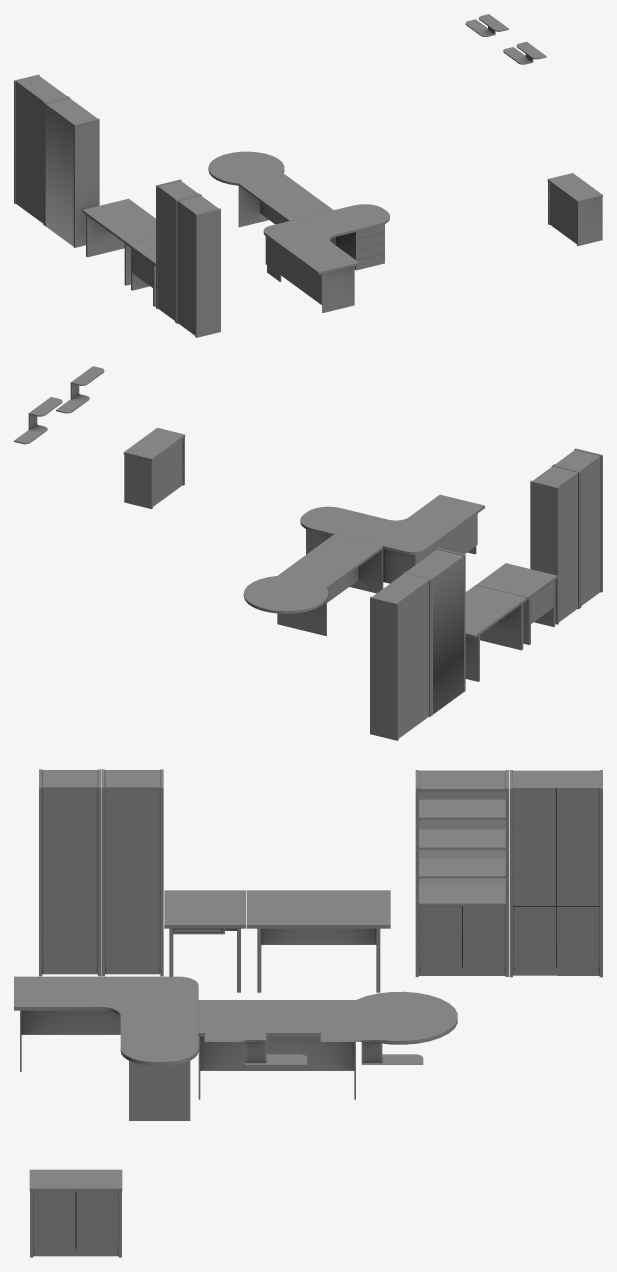
The model's file is mebel.fbx.
3 renders of one model, top to bottom at view 1: azimuth 30°, elevation 25°; view 2: azimuth 150°, elevation 25°; view 3: azimuth 270°, elevation 25°, orthographic. The views are drawn at different scales.
Parts seen in each view (by area): view 1: table, table.021, table.033, table.022, table.002, table.007, table.010; view 2: table, table.021, table.033, table.022, table.002, table.010, table.007; view 3: table.021, table, table.033, table.022, table.002, table.010, table.007.
Part boxes in pixels (bbox=[...]): table: bbox=[208, 151, 389, 312]; table.021: bbox=[14, 74, 99, 247]; table.033: bbox=[156, 179, 220, 337]; table.022: bbox=[82, 198, 155, 306]; table.002: bbox=[547, 173, 602, 245]; table.007: bbox=[503, 41, 546, 64]; table.010: bbox=[465, 14, 508, 36]; table: bbox=[243, 494, 484, 635]; table.021: bbox=[370, 548, 465, 740]; table.033: bbox=[530, 448, 602, 624]; table.022: bbox=[465, 563, 557, 681]; table.002: bbox=[123, 427, 185, 508]; table.010: bbox=[14, 397, 62, 444]; table.007: bbox=[56, 366, 104, 413]; table.021: bbox=[415, 770, 602, 977]; table: bbox=[14, 976, 457, 1120]; table.033: bbox=[39, 769, 163, 976]; table.022: bbox=[164, 890, 390, 992]; table.002: bbox=[29, 1169, 122, 1257]; table.010: bbox=[320, 1031, 423, 1064]; table.007: bbox=[204, 1031, 307, 1064].
Size of the model in its own units: 1040 by 353 by 854.
